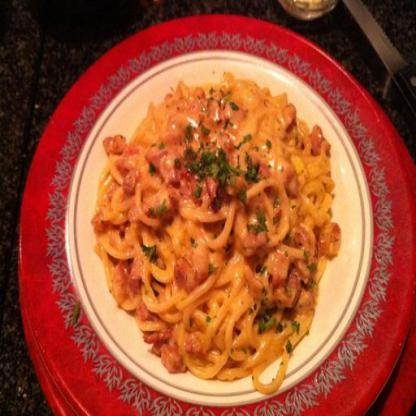pasta: (96, 78, 336, 380)
